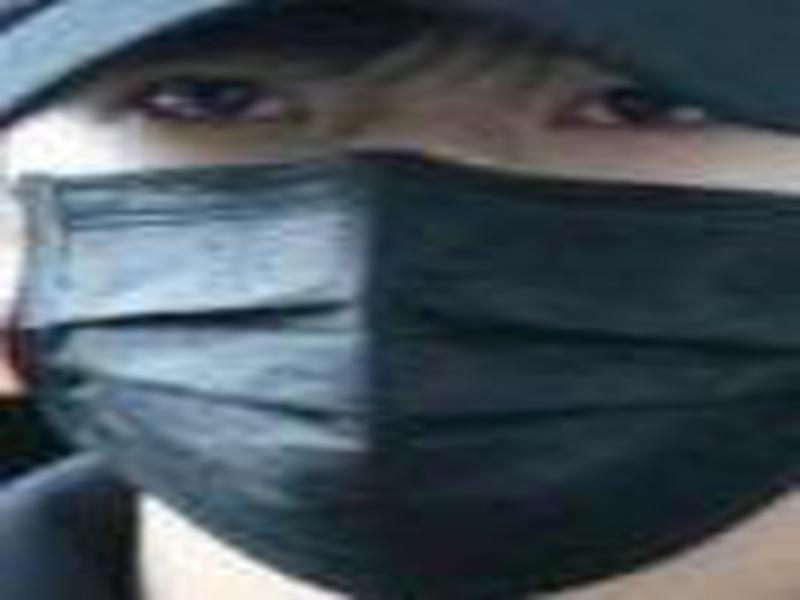with_mask: (1, 46, 797, 600)
